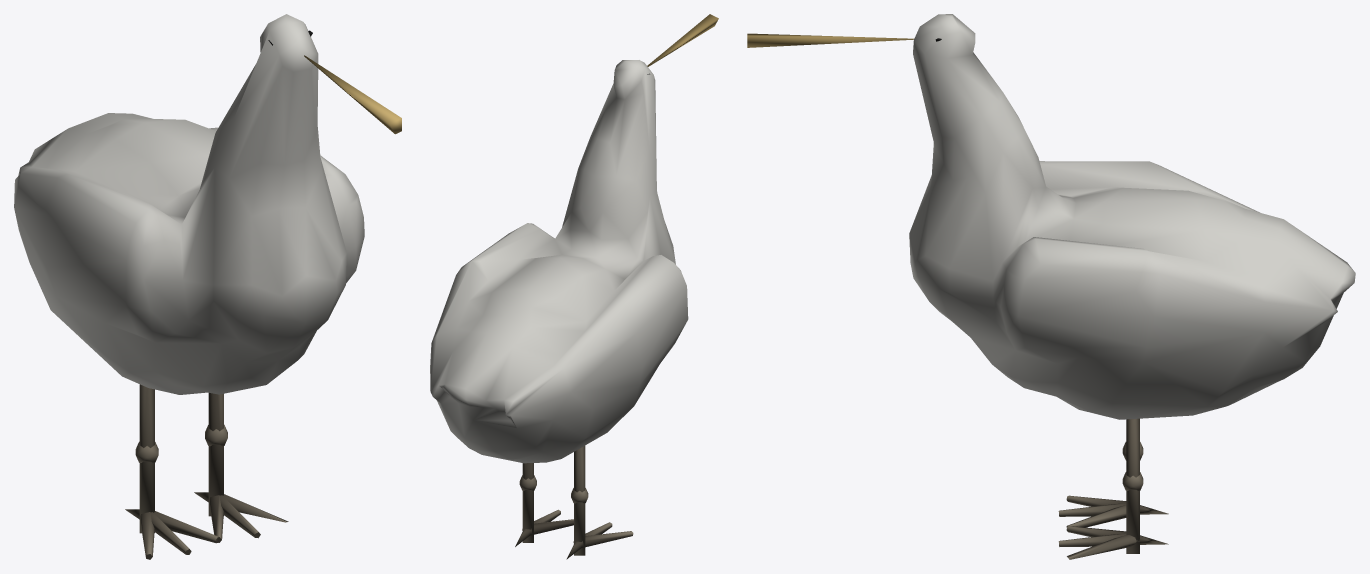
File: pelikan.glb
3 views of the same model, side by side, from view 1: azimuth 30°, elevation 25°; view 2: azimuth 150°, elevation 25°; view 3: azimuth 270°, elevation 25° (orthographic). The views are drawn at different scales.
Visible parts, largest first — view 1: lack; view 2: lack; view 3: lack.
Part boxes in pixels (x1,y1,x2,y2): lack: (14,14,401,559); lack: (430,14,718,559); lack: (747,14,1355,559).
Bounding box in the file's own units: 0.4962 × 1.08 × 1.15.
